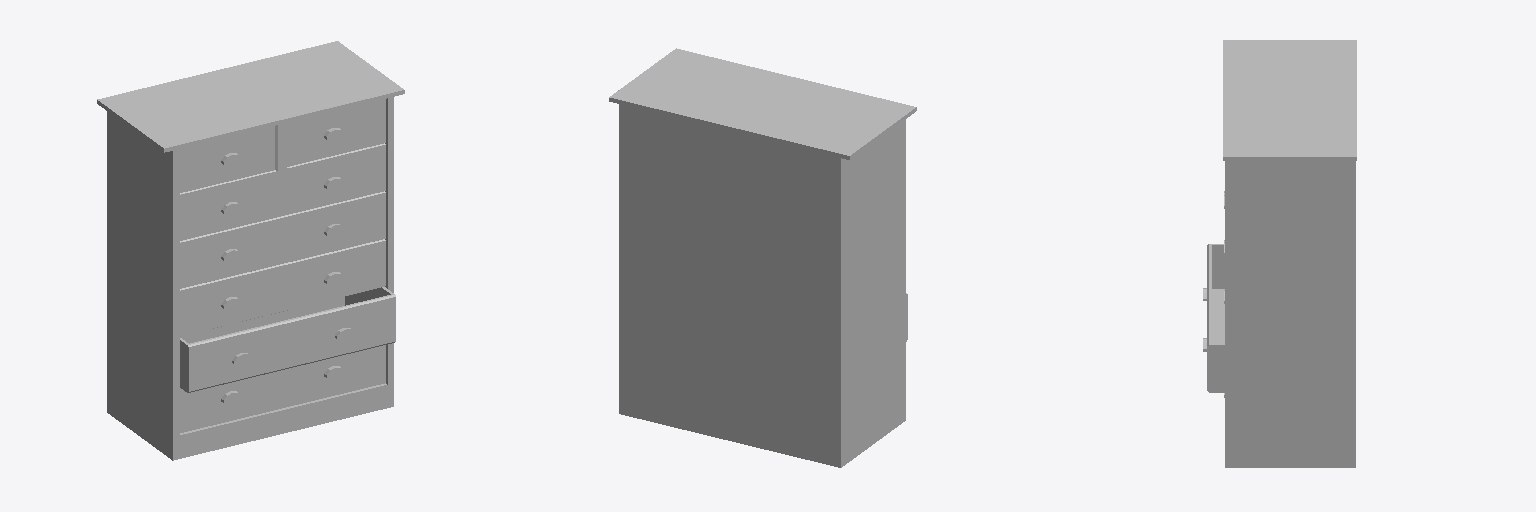
File: drawer.obj
3 renders of one model, left to right at view 1: azimuth 30°, elevation 25°; view 2: azimuth 150°, elevation 25°; view 3: azimuth 270°, elevation 25°, orthographic.
Parts seen in each view (by area): view 1: Cube.018, Cylinder.018; view 2: Cube.018; view 3: Cube.018.
Part boxes in pixels (bbox=[...]): Cube.018: bbox=[97, 41, 404, 460]; Cylinder.018: bbox=[221, 128, 355, 402]; Cube.018: bbox=[609, 48, 916, 467]; Cube.018: bbox=[1207, 40, 1356, 467].
Size of the model in its own units: 2.66 by 3.33 by 1.48.